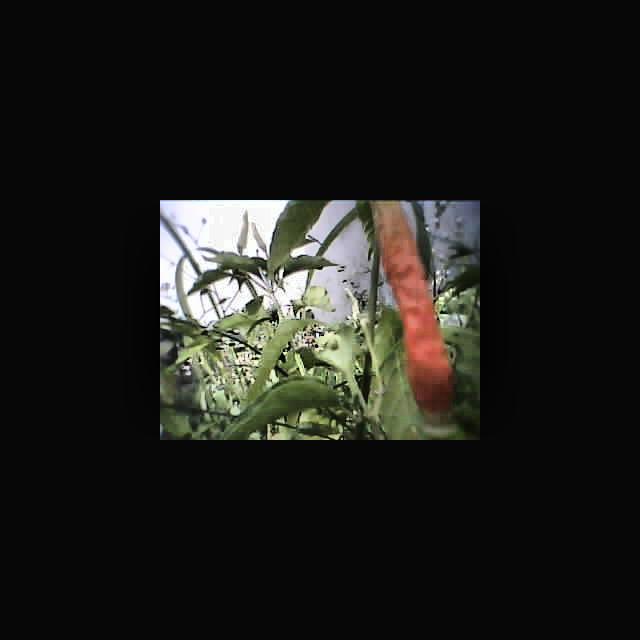Cabai: (371, 203, 459, 407)
